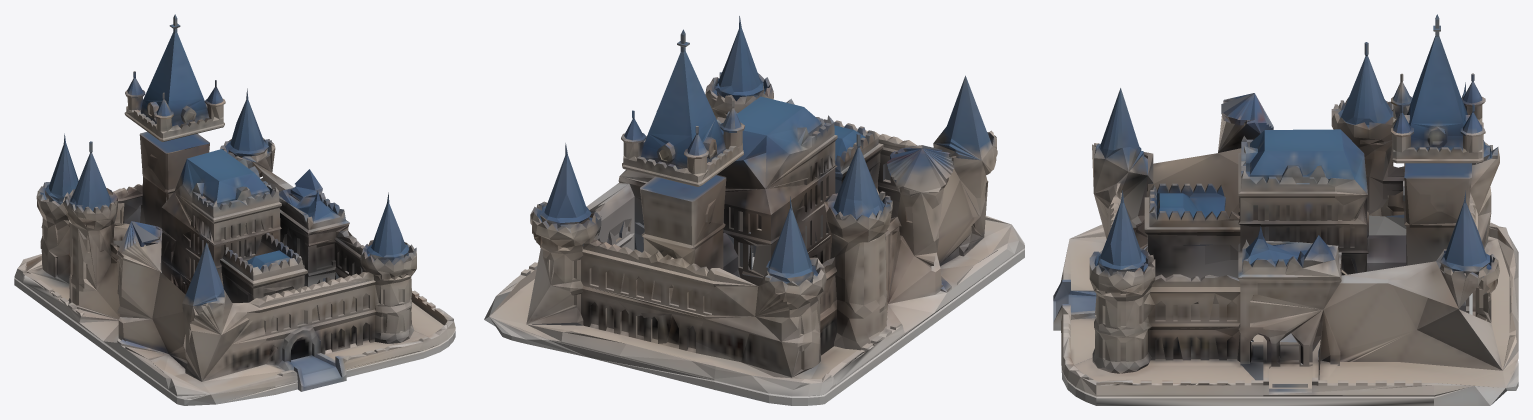
The model's file is palace.fbx.
3 renders of one model, left to right at view 1: azimuth 30°, elevation 25°; view 2: azimuth 150°, elevation 25°; view 3: azimuth 270°, elevation 25°, orthographic. The views are drawn at different scales.
Visible parts, largest first — view 1: texture_pbr_v128; view 2: texture_pbr_v128; view 3: texture_pbr_v128.
Part boxes in pixels (x1,y1,x2,y2): texture_pbr_v128: [14, 14, 455, 405]; texture_pbr_v128: [484, 16, 1024, 405]; texture_pbr_v128: [1053, 14, 1518, 405].
Size of the model in its own units: 160 by 139 by 190.
Materials: 1 (1 with a texture image).
